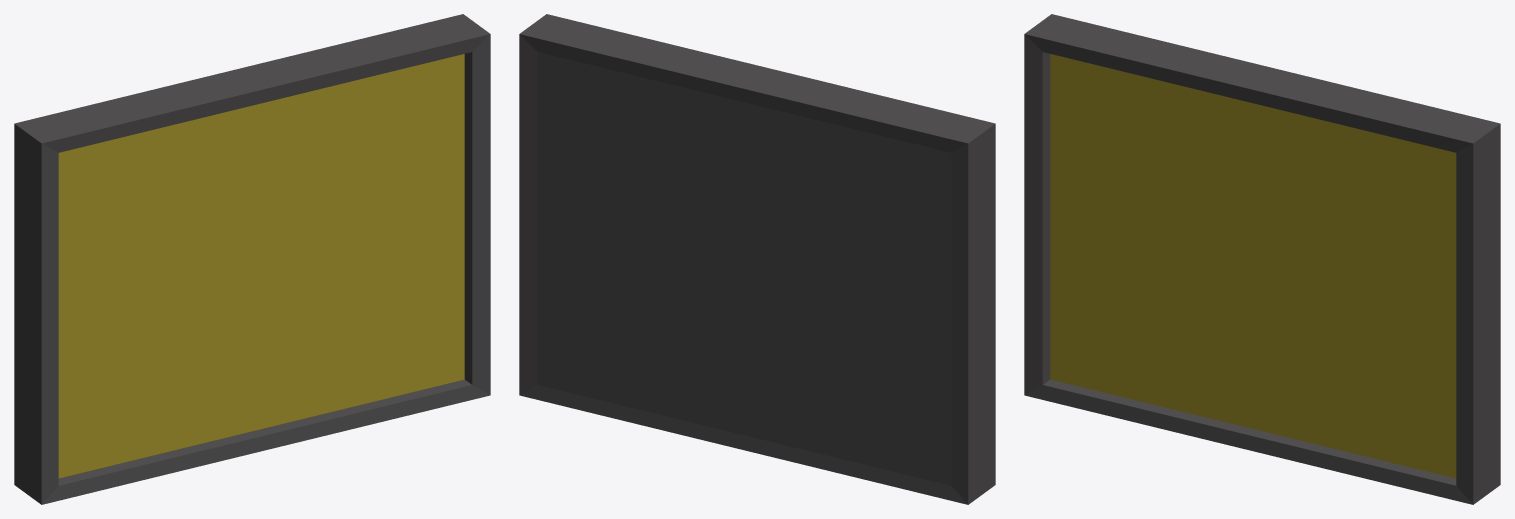
The model's file is task.fbx.
The picture shows the model from 3 angles, left to right: view 1: azimuth 30°, elevation 25°; view 2: azimuth 150°, elevation 25°; view 3: azimuth 330°, elevation 25°; orthographic projection.
Visible parts, largest first — view 1: Cube; view 2: Cube; view 3: Cube.
Boxes of the visible parts, x1,y1,x2,y2 form: Cube: (14, 14, 490, 504); Cube: (519, 14, 995, 504); Cube: (1024, 14, 1500, 504).
Bounding box in the file's own units: 141 × 109 × 14.9.
